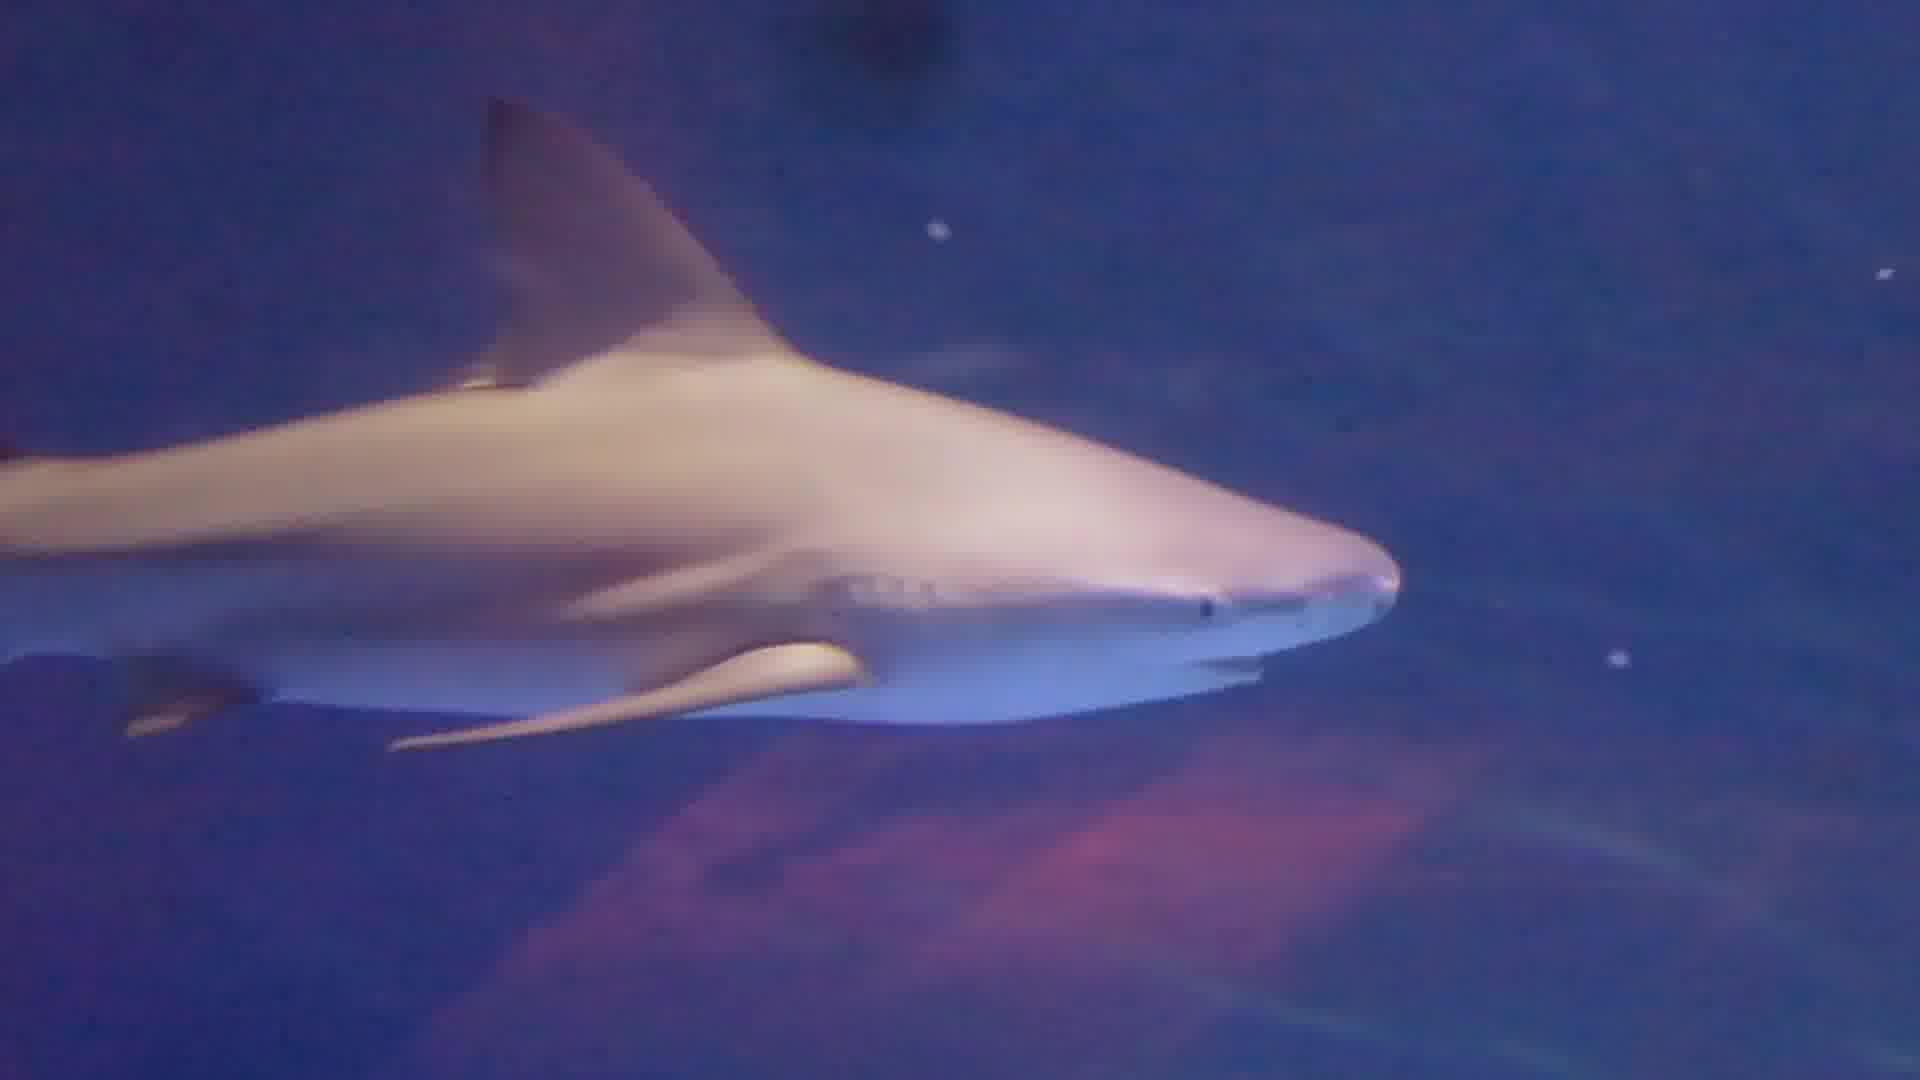Carcharhinus leucas: (1, 100, 1414, 814)
